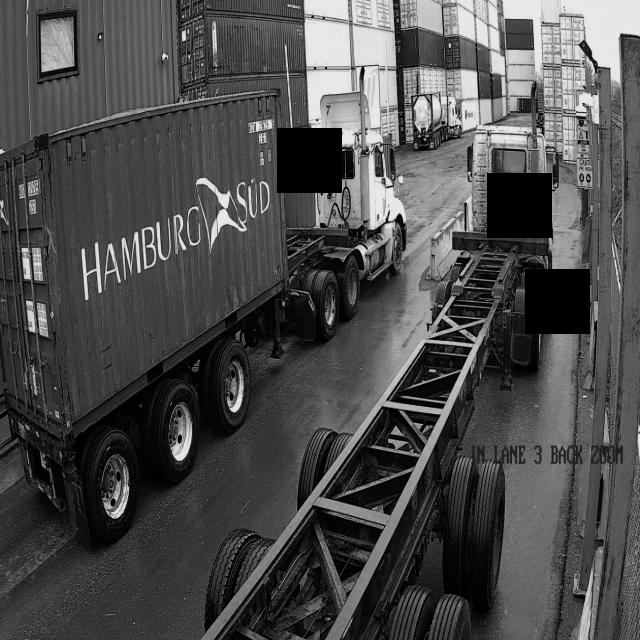container_company_logo: (74, 162, 273, 313)
truck_with_container: (0, 69, 406, 545)
truck_without_container: (199, 110, 559, 640)
